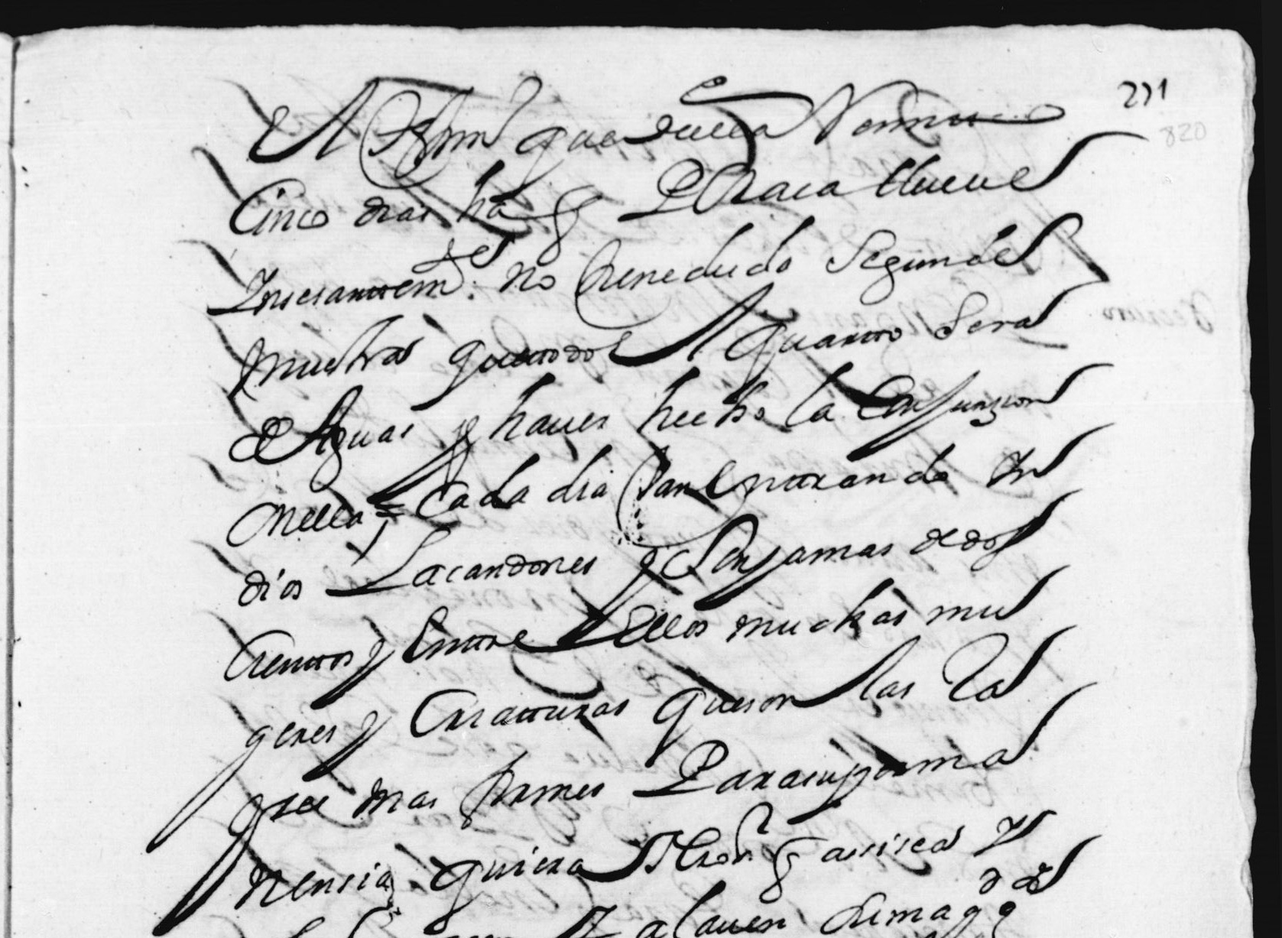lacandon: (325, 525, 597, 596)
